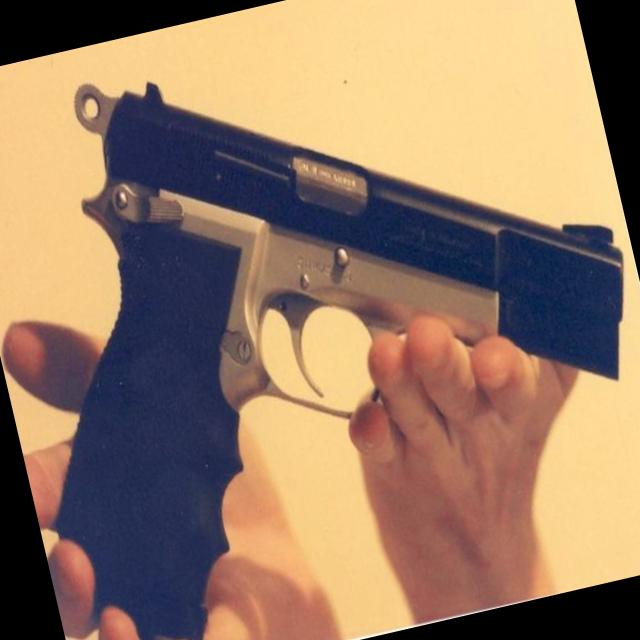Gun: (54, 81, 627, 640)
